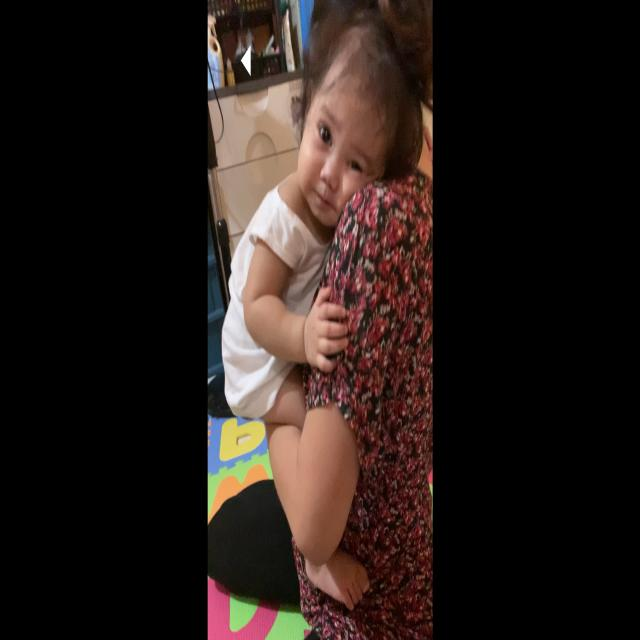adult: (207, 0, 432, 640)
child: (220, 17, 418, 613)
